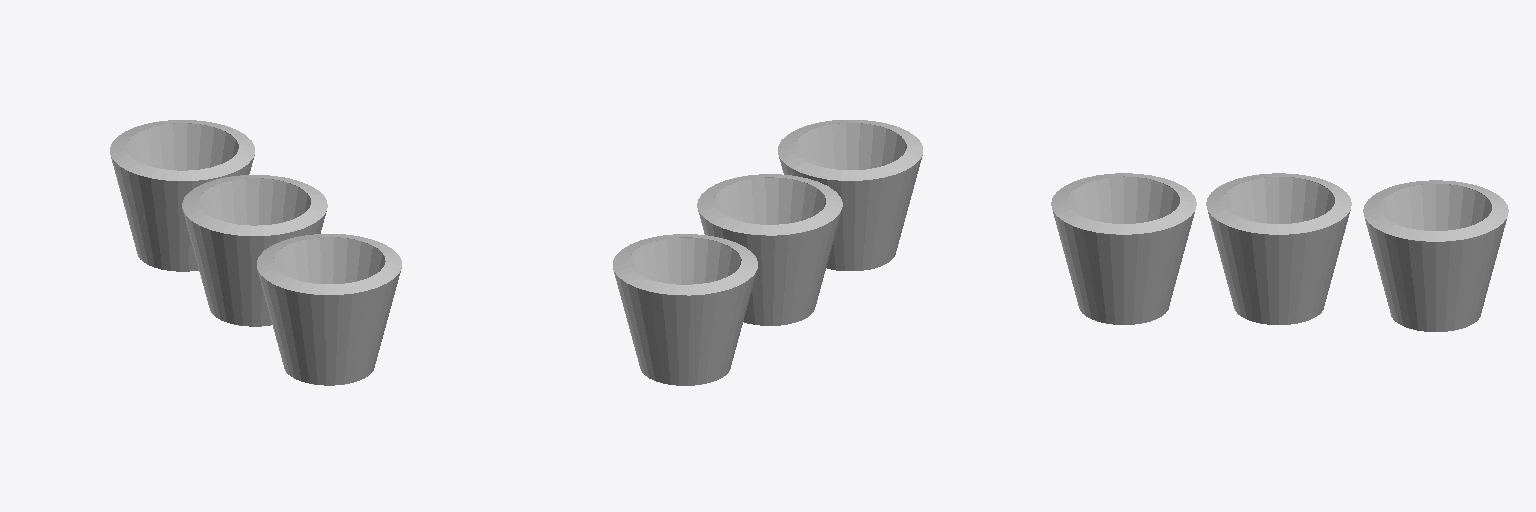
File: tongjadimerah.obj
3 views of the same model, side by side, from view 1: azimuth 30°, elevation 25°; view 2: azimuth 150°, elevation 25°; view 3: azimuth 270°, elevation 25° (orthographic).
Parts seen in each view (by area): view 1: Cylinder.002_Cylinder.004, Cylinder, Cylinder.004_Cylinder.006; view 2: Cylinder.004_Cylinder.006, Cylinder, Cylinder.002_Cylinder.004; view 3: Cylinder, Cylinder.004_Cylinder.006, Cylinder.002_Cylinder.004.
Boxes of the visible parts, box(x1,y1,x2,y2) form: Cylinder.002_Cylinder.004: box(257, 234, 401, 385); Cylinder: box(182, 175, 327, 326); Cylinder.004_Cylinder.006: box(110, 120, 254, 271); Cylinder.004_Cylinder.006: box(613, 234, 757, 385); Cylinder: box(697, 174, 842, 325); Cylinder.002_Cylinder.004: box(778, 120, 922, 270); Cylinder: box(1206, 173, 1351, 324); Cylinder.004_Cylinder.006: box(1363, 180, 1508, 331); Cylinder.002_Cylinder.004: box(1051, 173, 1196, 324).
Size of the model in its own units: 2.81 by 2.17 by 8.21.